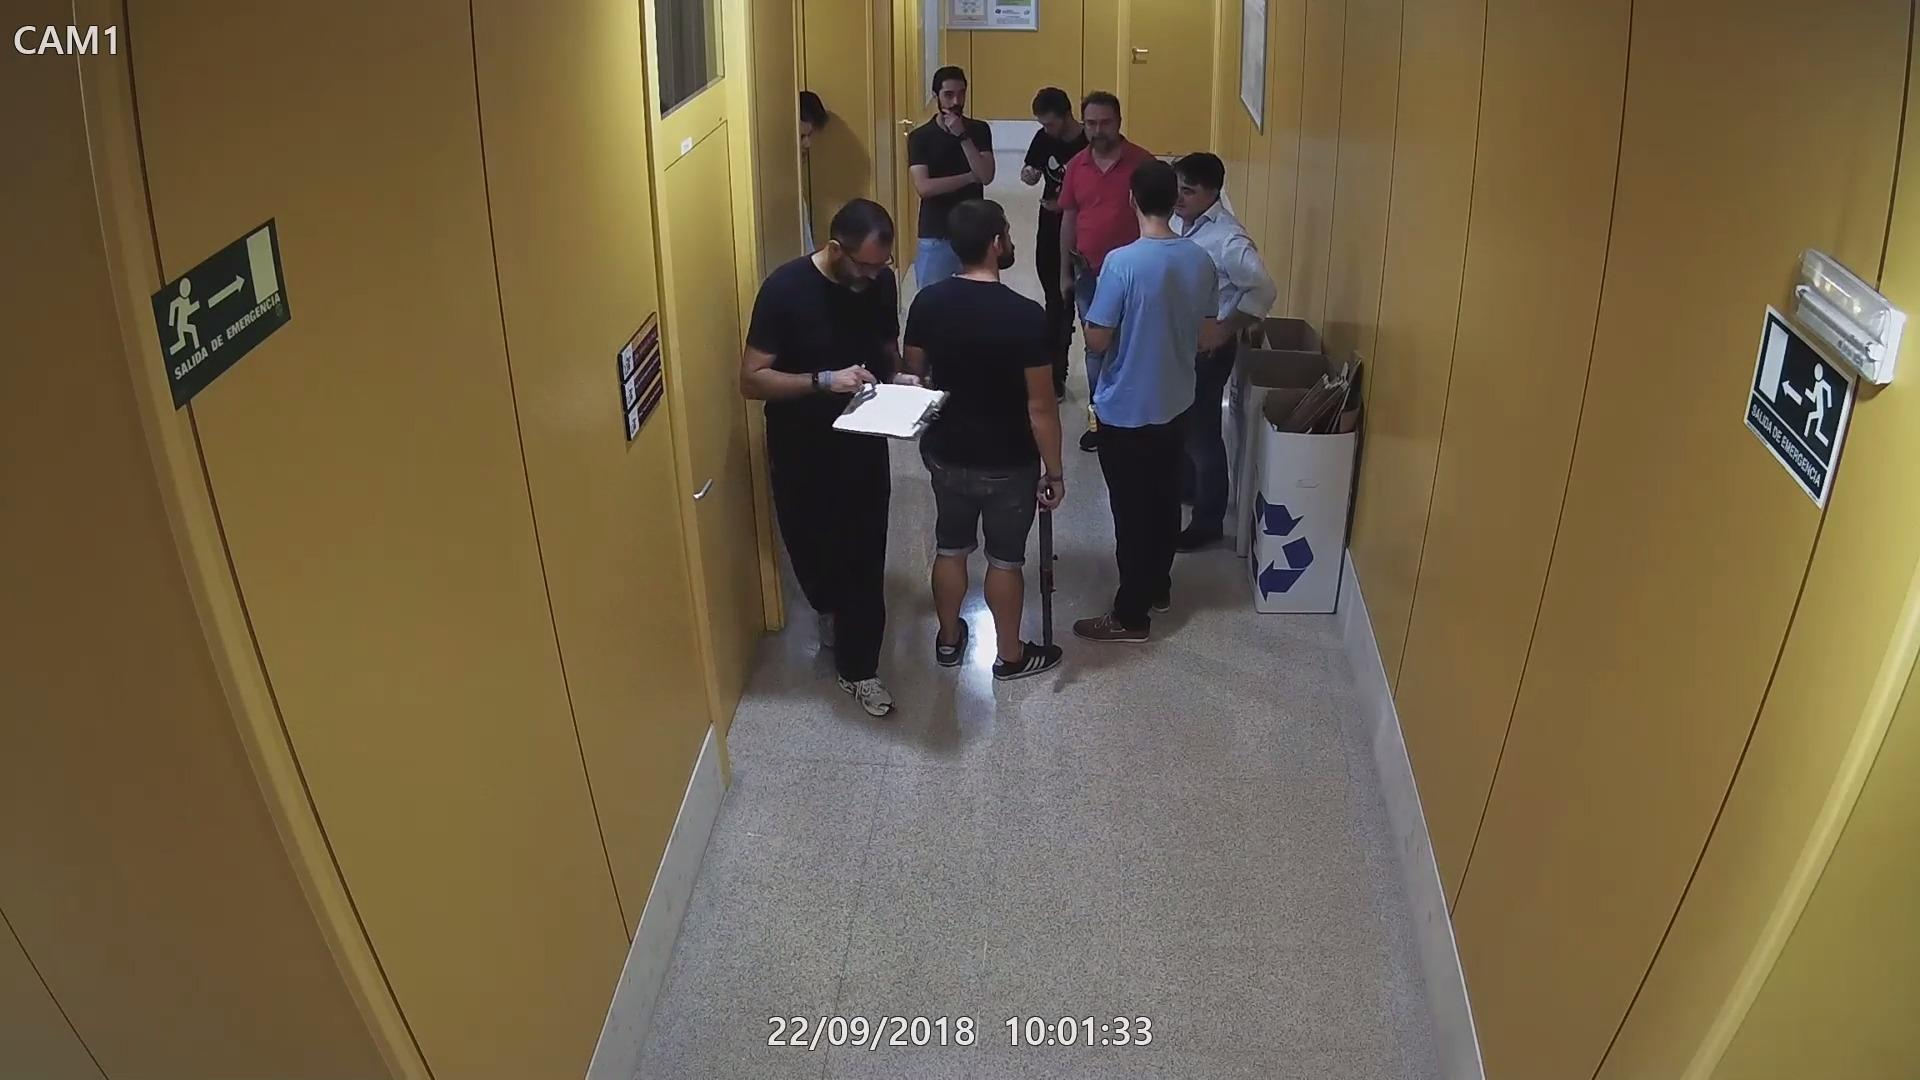Handgun: (1064, 247, 1092, 273)
